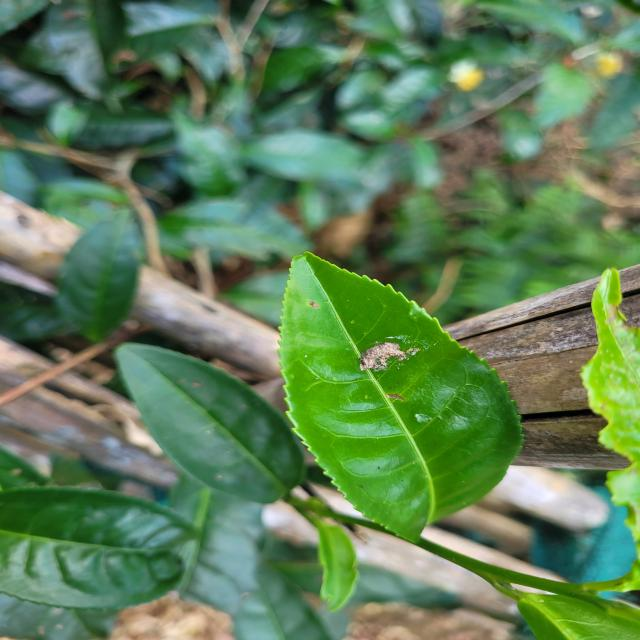Category D(7+ days, Not for Tea): (256, 237, 538, 535)
